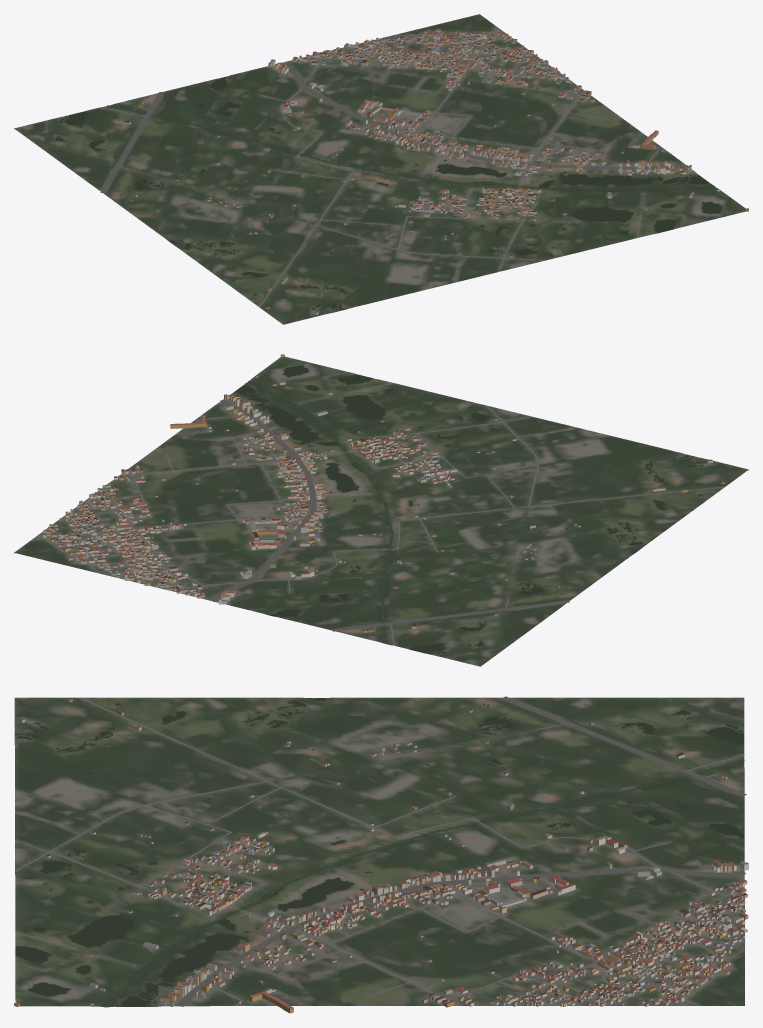
The picture shows the model from 3 angles, top to bottom: view 1: azimuth 30°, elevation 25°; view 2: azimuth 150°, elevation 25°; view 3: azimuth 270°, elevation 25°; orthographic projection. The views are drawn at different scales.
Parts seen in each view (by area): view 1: ground, buildings, water, roads; view 2: ground, buildings, water, roads; view 3: ground, buildings, water, roads.
Part boxes in pixels (bbox=[...]): ground: bbox=[14, 14, 748, 324]; buildings: bbox=[109, 28, 748, 314]; water: bbox=[55, 76, 721, 311]; roads: bbox=[99, 26, 688, 307]; ground: bbox=[14, 356, 748, 666]; buildings: bbox=[42, 354, 724, 632]; water: bbox=[232, 365, 704, 654]; roads: bbox=[30, 383, 724, 645]; ground: bbox=[14, 697, 744, 1007]; buildings: bbox=[14, 698, 748, 1013]; water: bbox=[15, 698, 744, 1006]; roads: bbox=[15, 696, 746, 1006].
Bounding box in the file's own units: 1442 × 23.71 × 1412.
